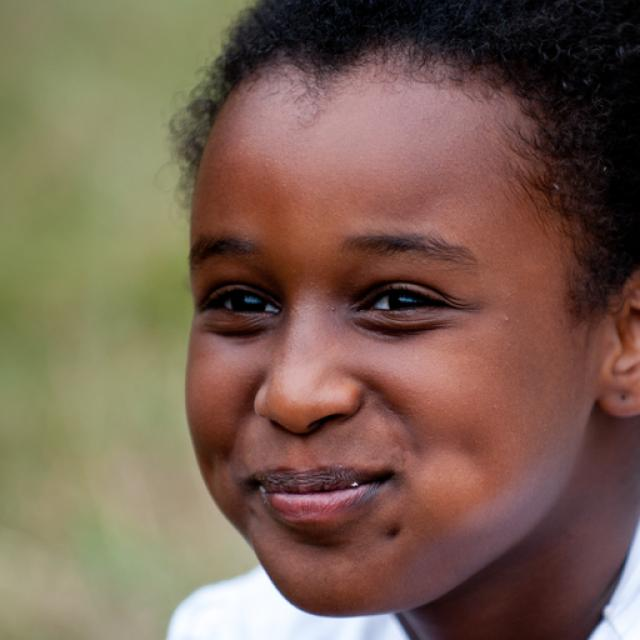Acne: (324, 297, 341, 318), (501, 309, 515, 326)
